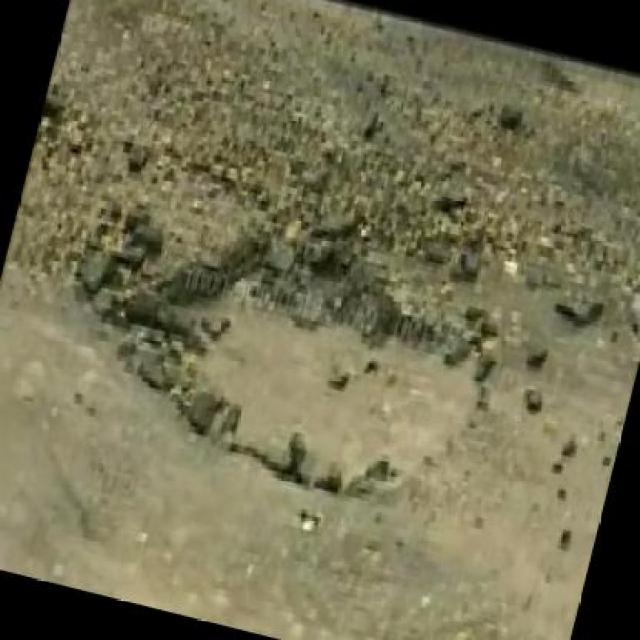pothole1: (87, 188, 516, 527)
